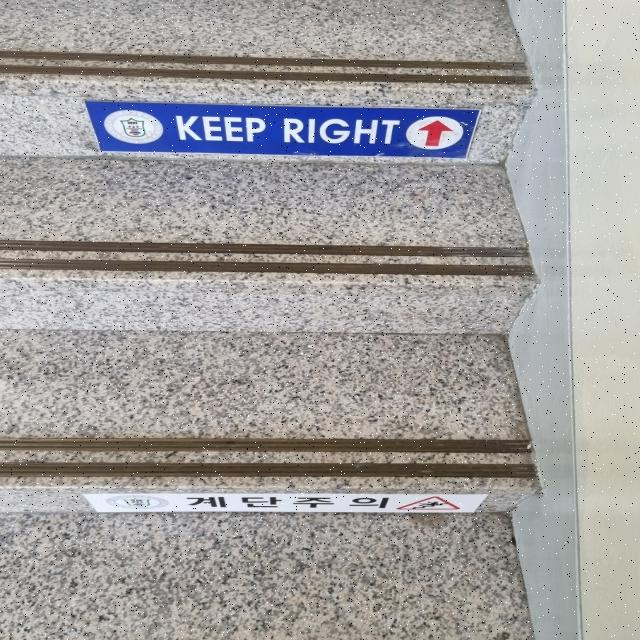logo: (94, 99, 173, 157), (104, 494, 176, 513)
